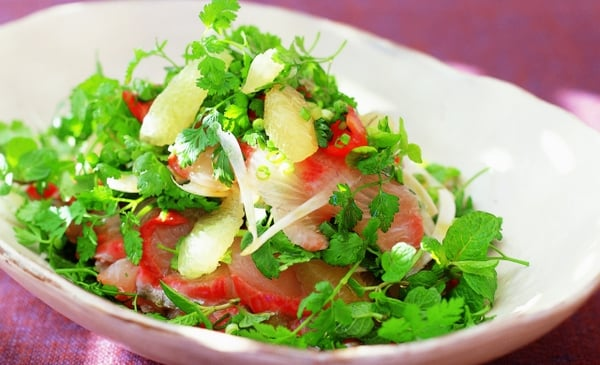sushi: (6, 4, 595, 356)
